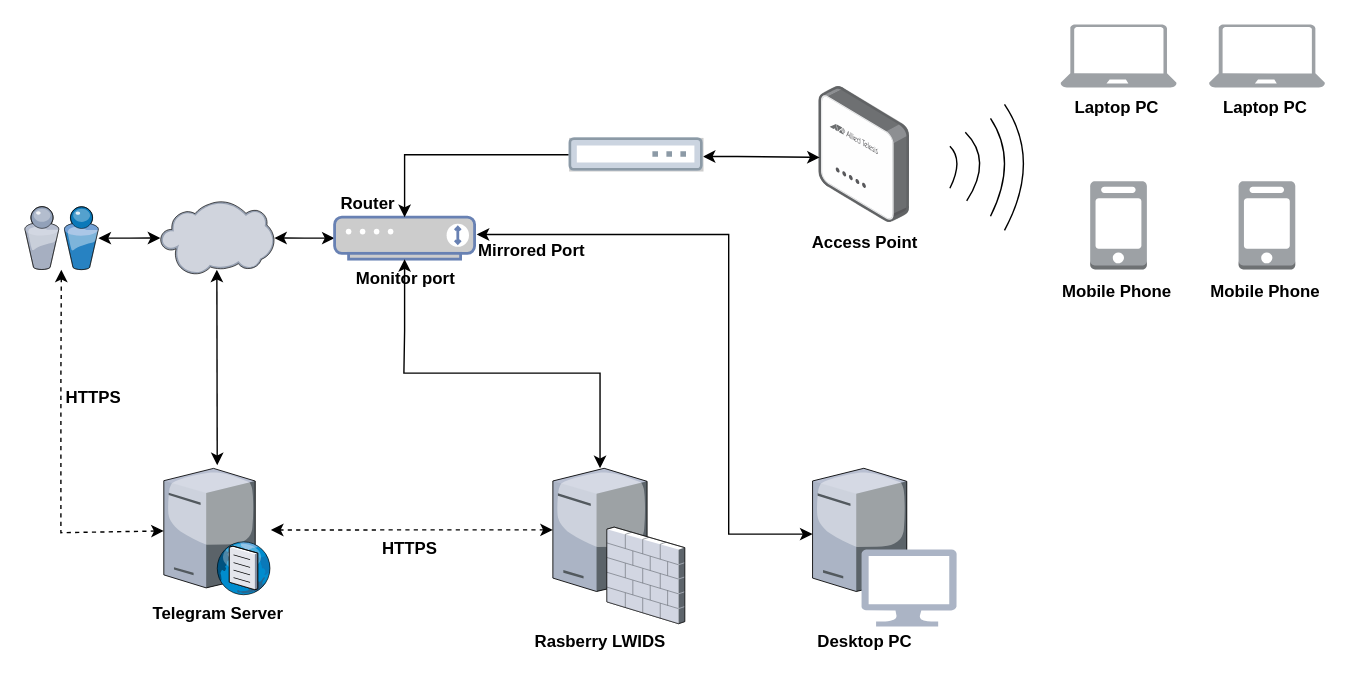
The diagram is 1358 pixels wide and 683 high, and some of its shapes have lost their labels. The centre of each missing label's shape, as x and y in pixels:
"Internet" belongs at (x=217, y=237).
"Unmanaged Switch" belongs at (x=635, y=154).
